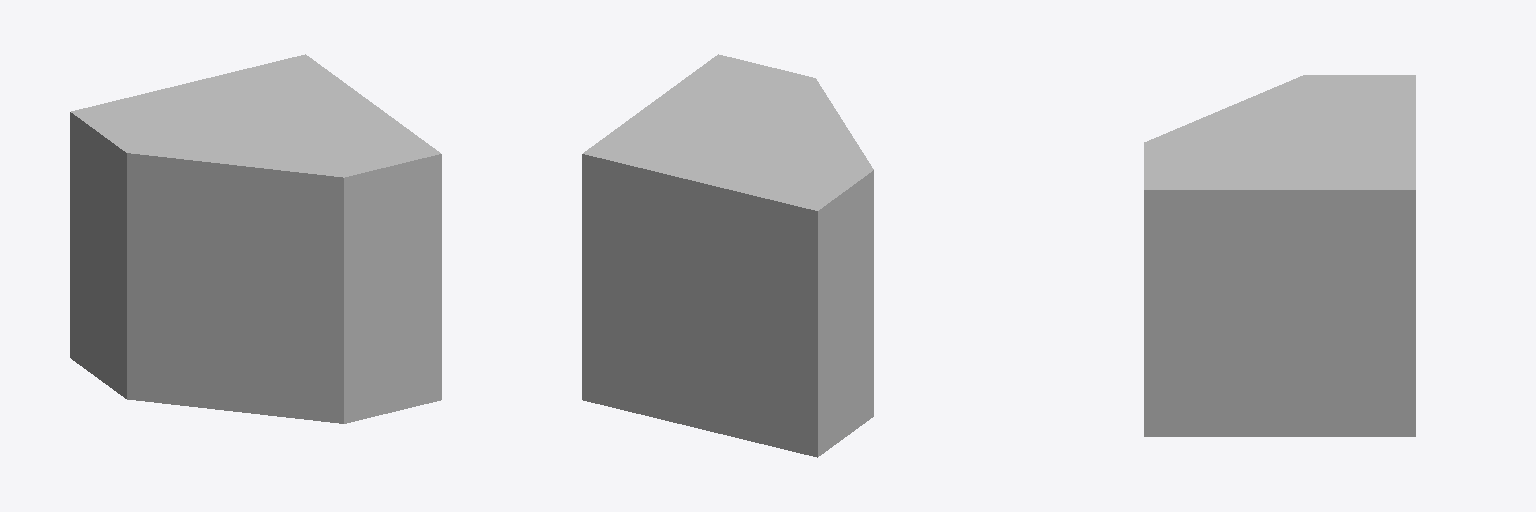
The model's file is struct_wall_joint_top.obj.
3 renders of one model, left to right at view 1: azimuth 30°, elevation 25°; view 2: azimuth 150°, elevation 25°; view 3: azimuth 270°, elevation 25°, orthographic.
Parts seen in each view (by area): view 1: struct_wall_joint_top; view 2: struct_wall_joint_top; view 3: struct_wall_joint_top.
Boxes of the visible parts, x1=… form: struct_wall_joint_top: x1=70, y1=54, x2=441, y2=423; struct_wall_joint_top: x1=582, y1=54, x2=873, y2=457; struct_wall_joint_top: x1=1144, y1=75, x2=1415, y2=436.
Bounding box in the file's own units: 0.2 × 0.2 × 0.2.